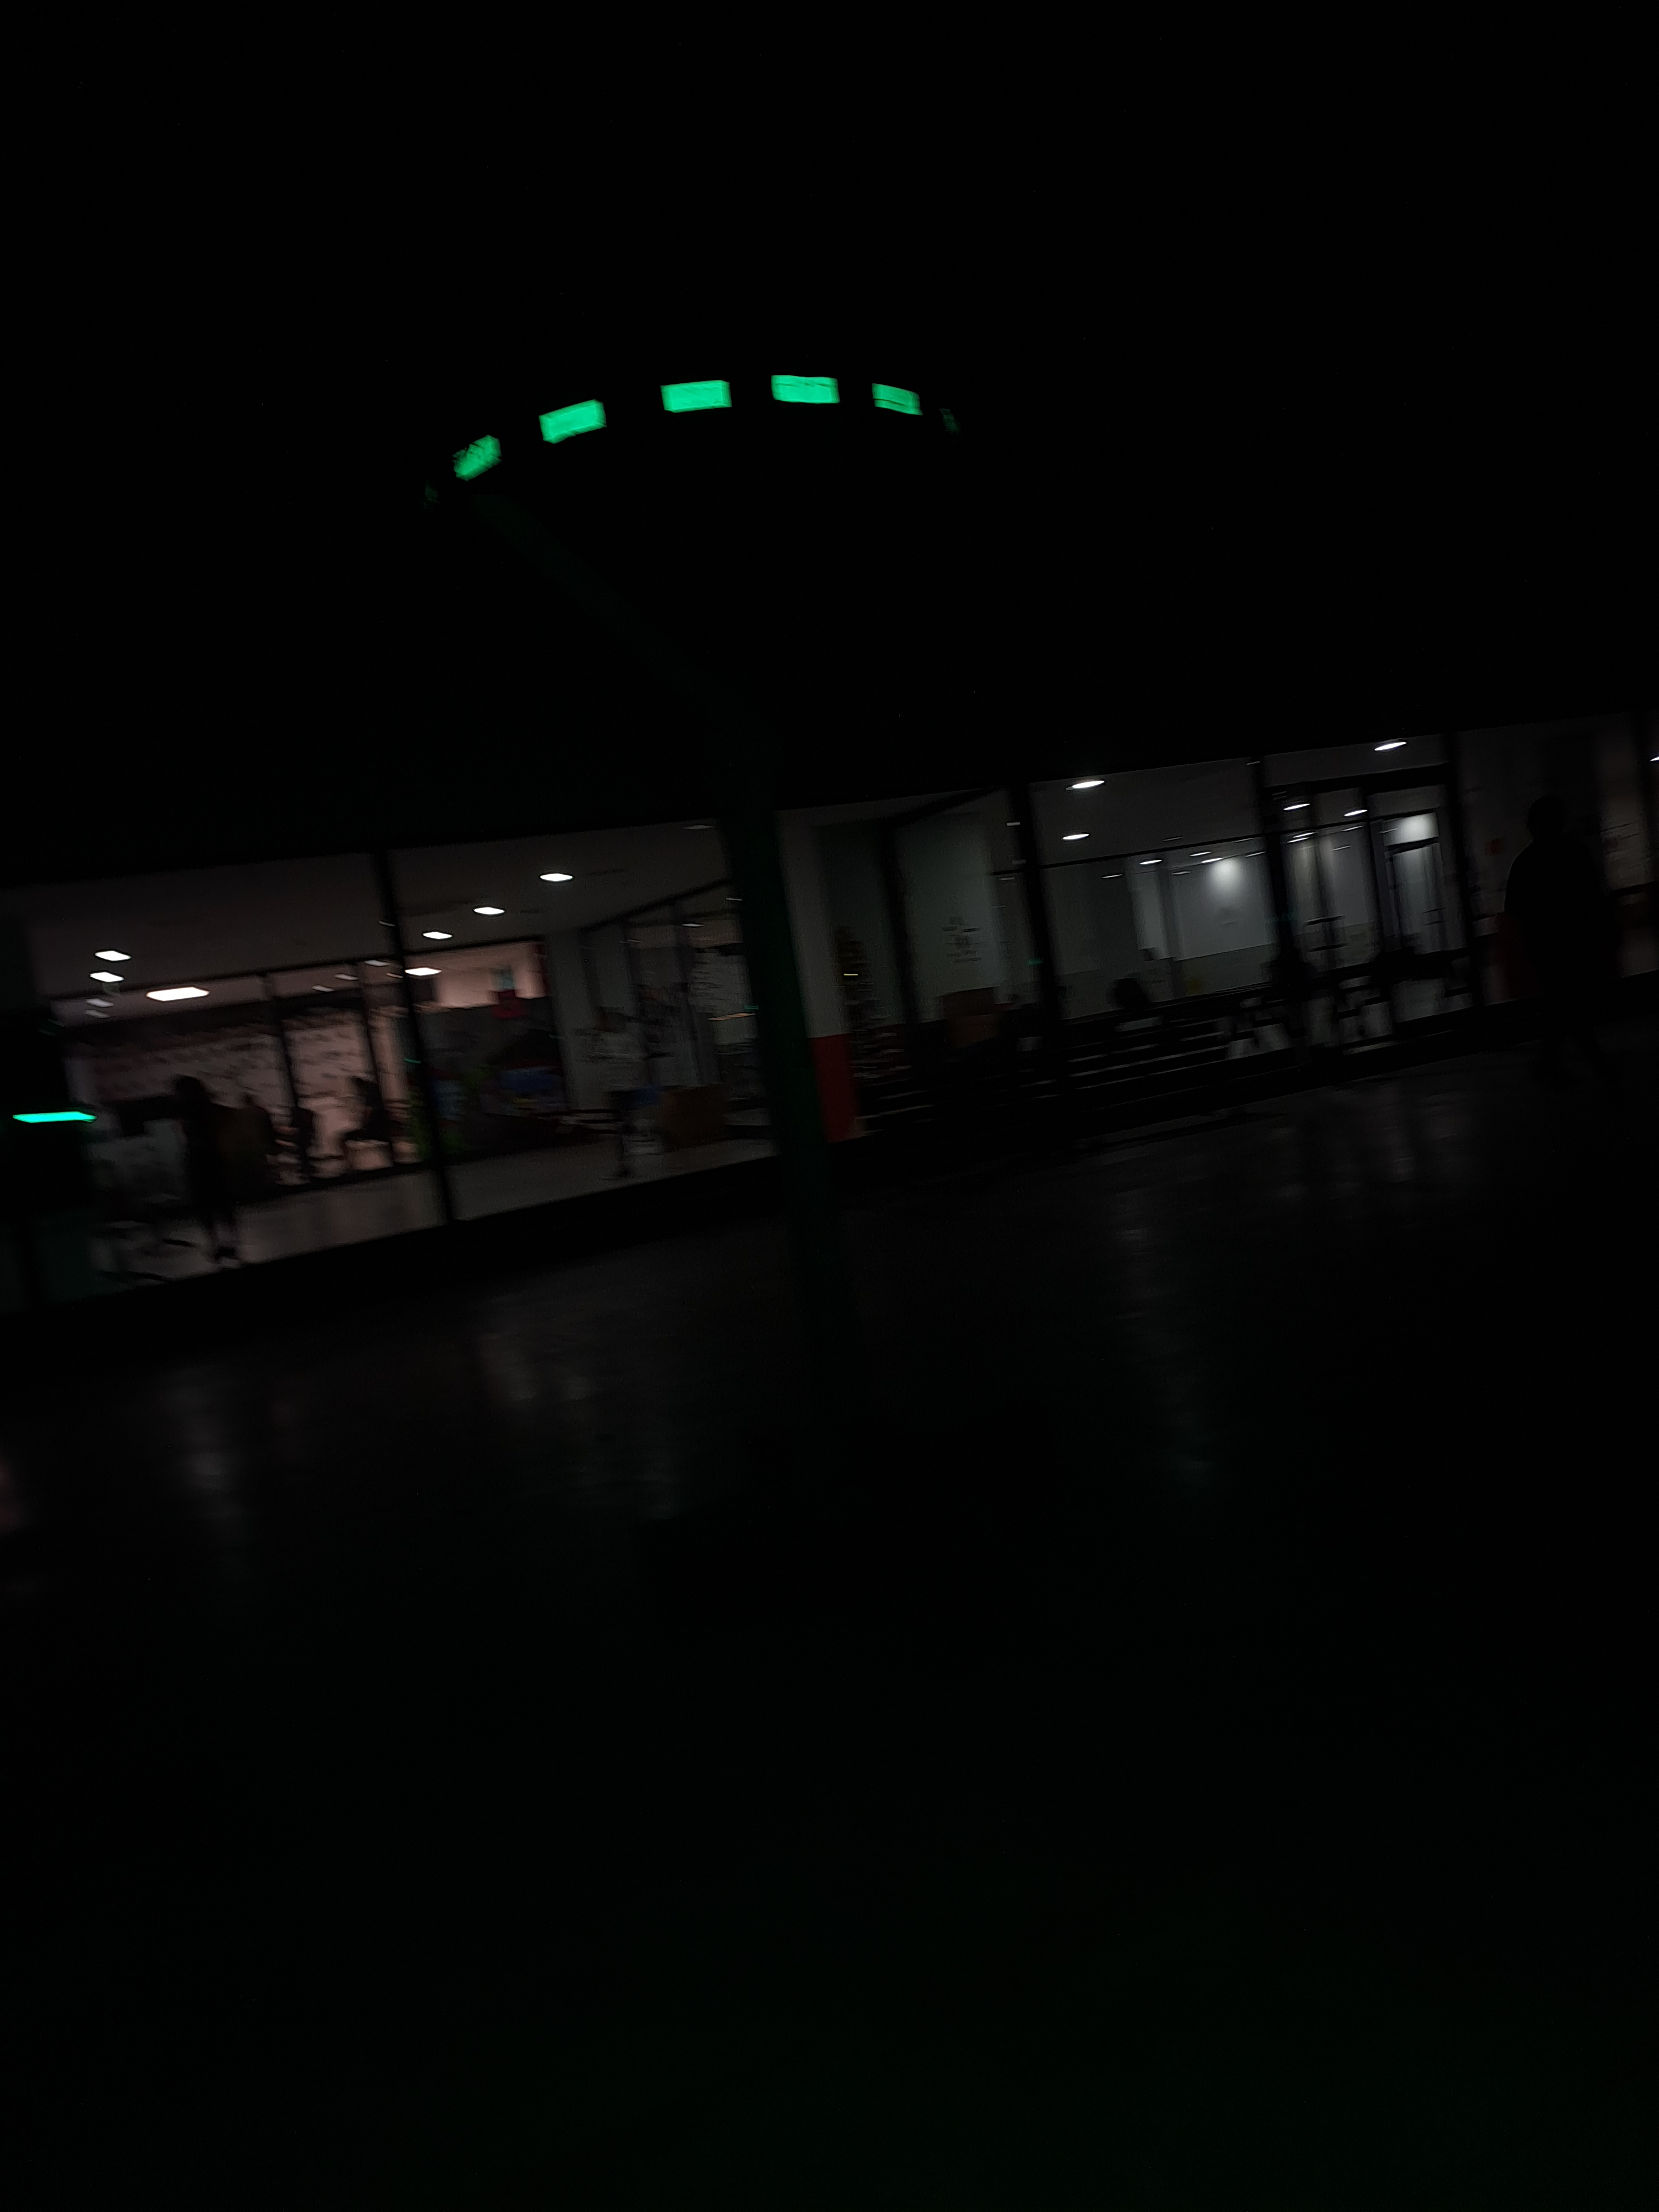hoop: (450, 355, 931, 500)
